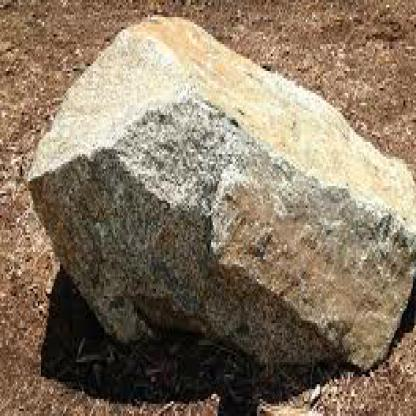Sedimentary_Chalk: (123, 32, 328, 338)
